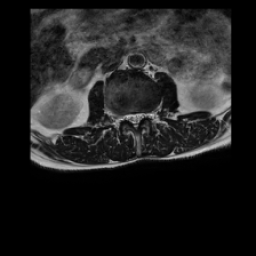CCS_normal: (132, 107, 138, 134)
LFS_stenosis: (144, 108, 150, 122)
LLS_normal: (138, 107, 144, 127)
RFS_stenosis: (120, 108, 127, 125)
RLS_normal: (127, 107, 132, 126)
